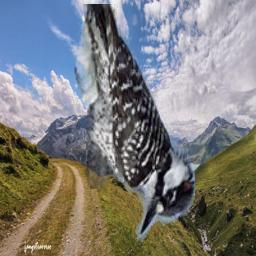Woodpecker: (53, 4, 195, 242)
